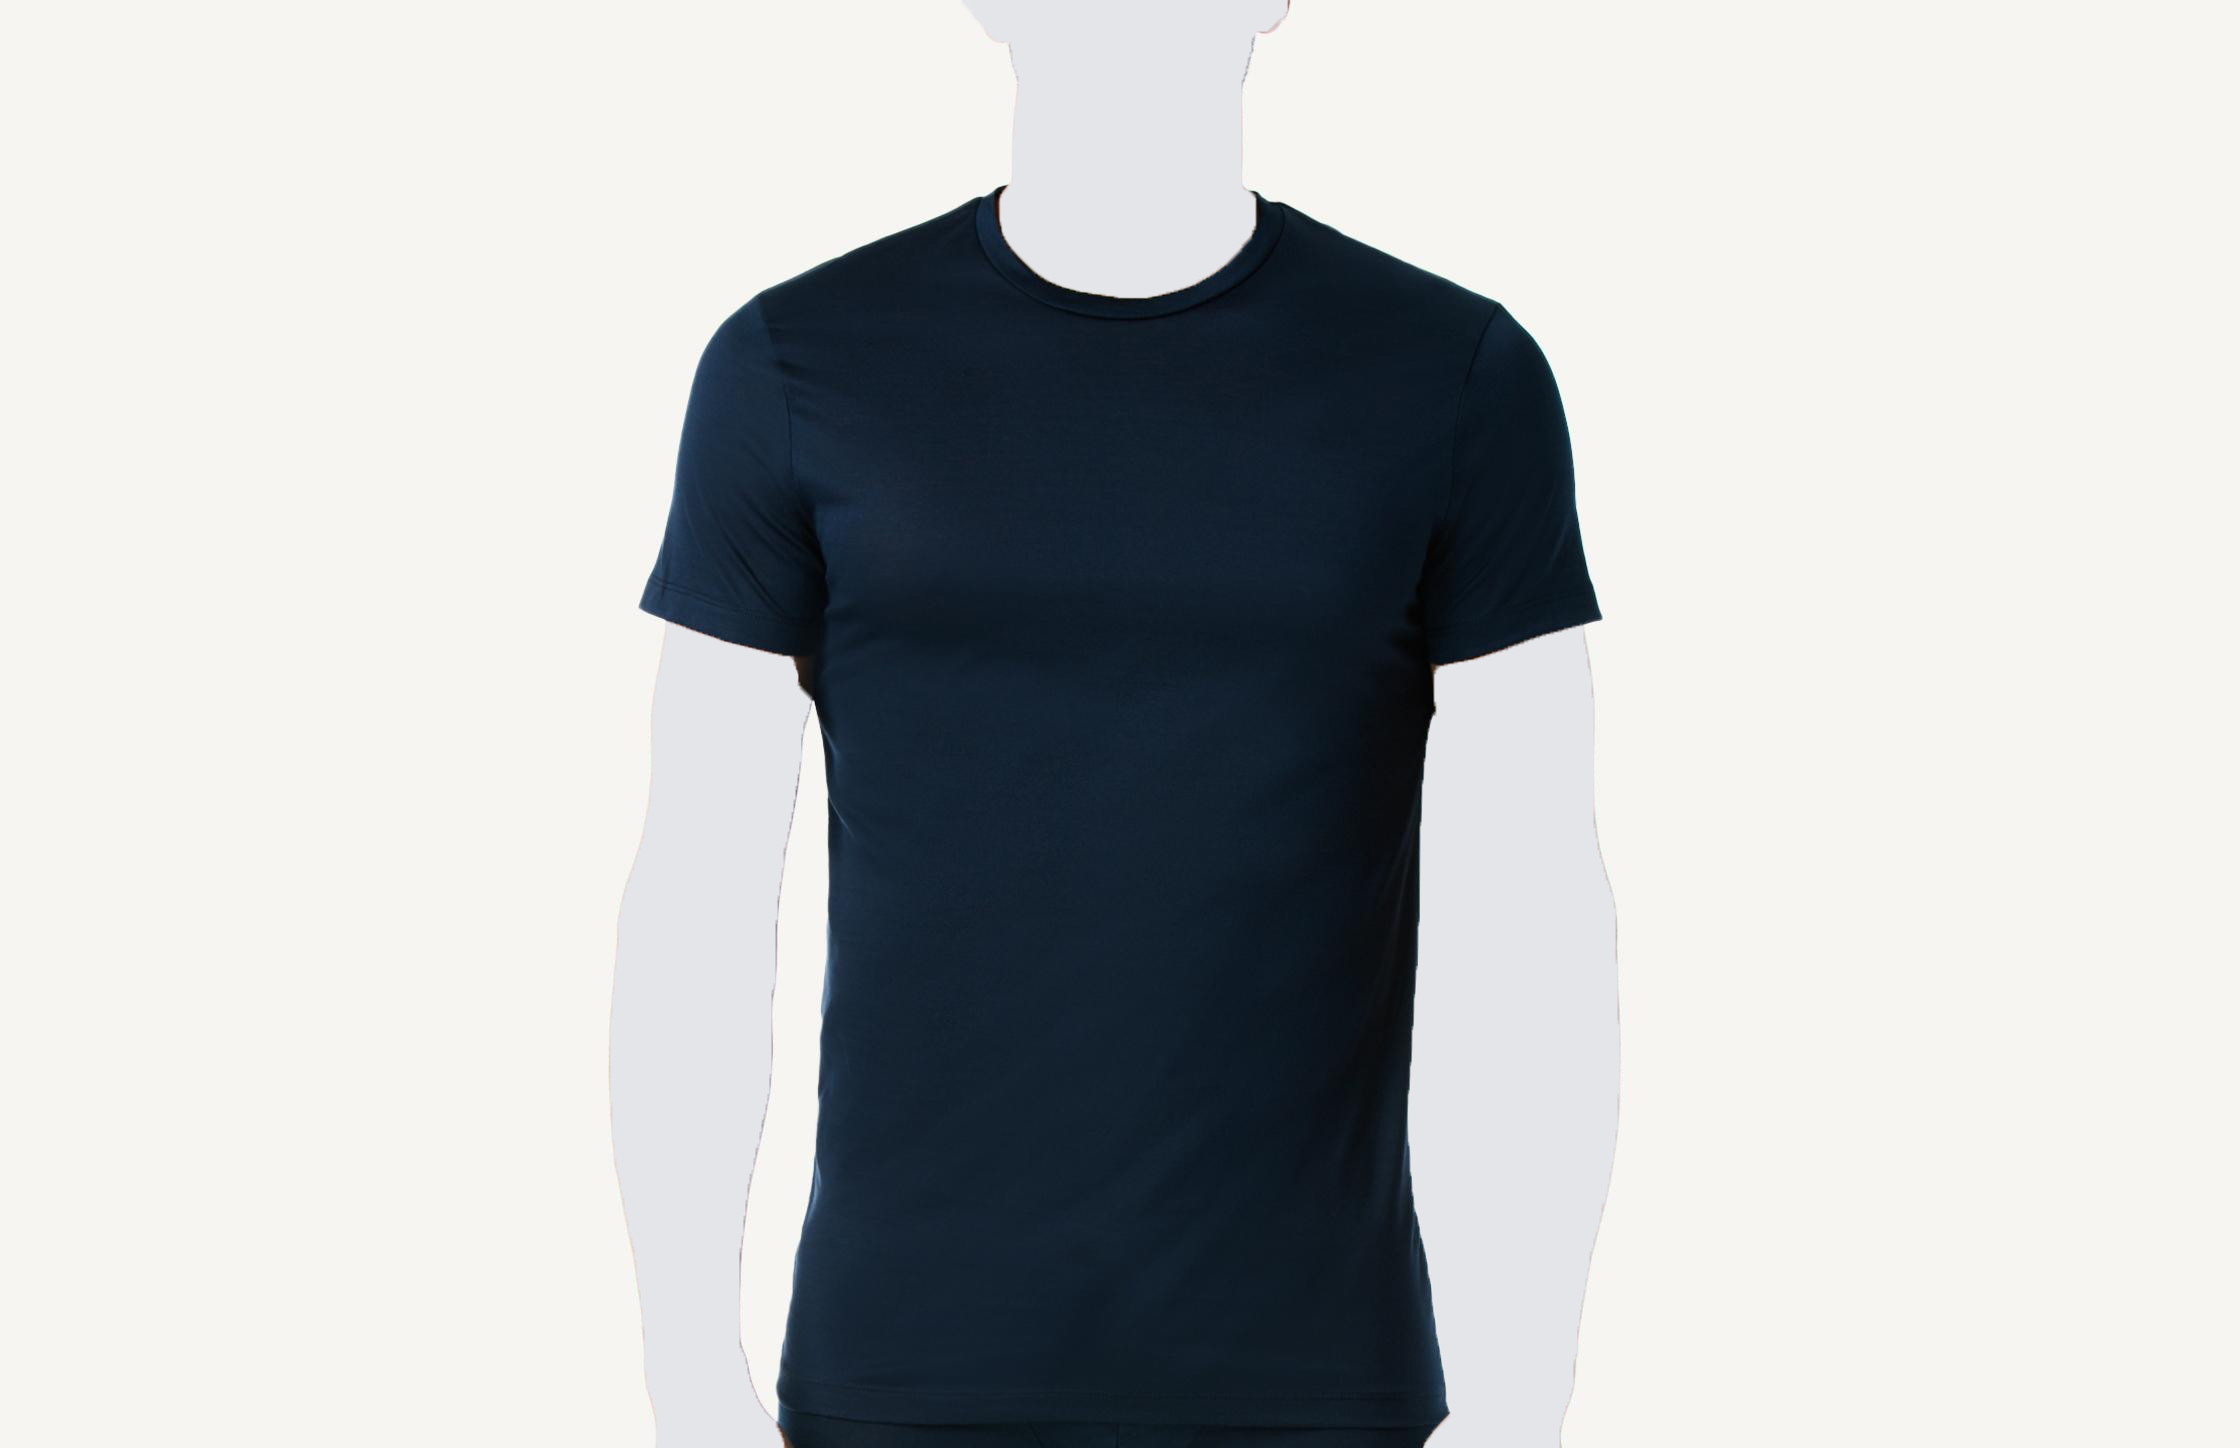teeshirt: (637, 184, 1602, 1432)
